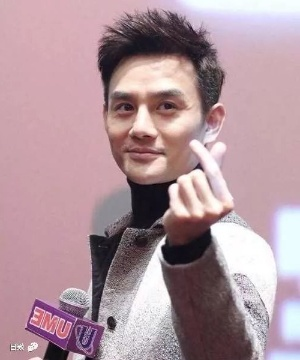oneheart: (160, 140, 245, 225)
